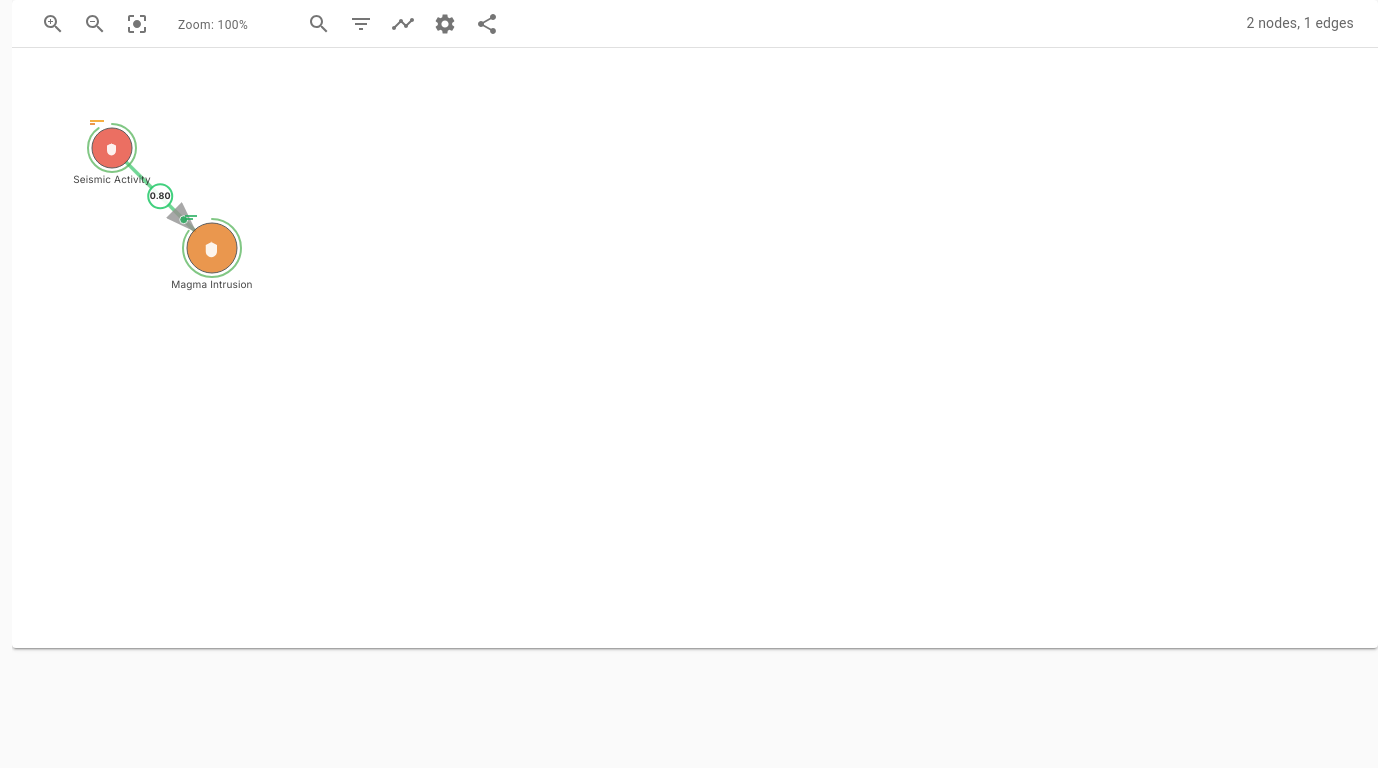
Test: CausalNetworkVisualization › opens search panel when search button is clicked
What coordinates should you click on to do the following:
click the button named "Search"
I would click on:
 (319, 24)
Its box is [302,6,336,40].
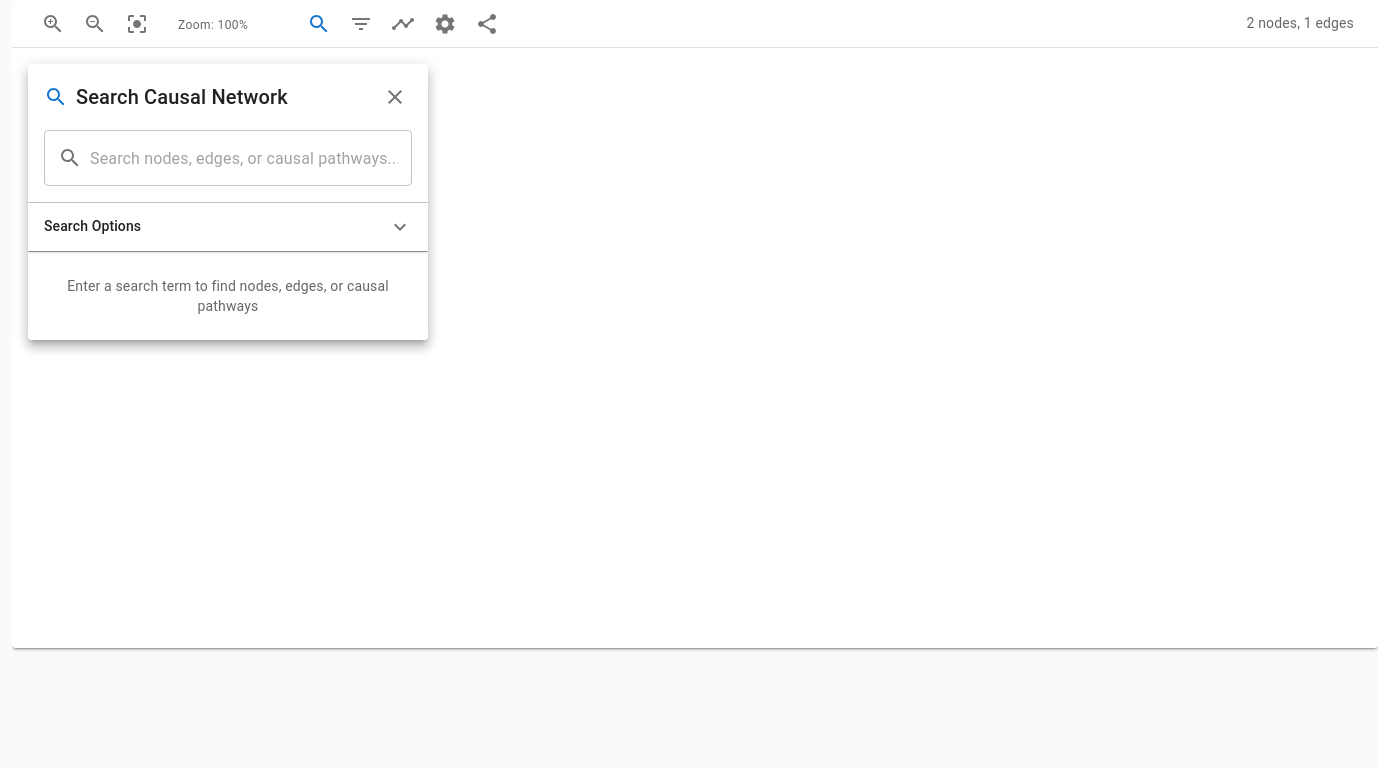
Now the heading "Search Causal Network" is shown, box [76,81,288,113]
